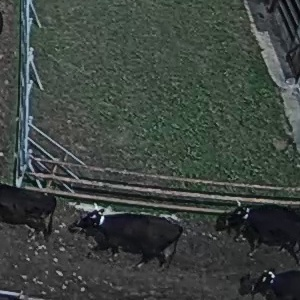cow: (70, 206, 193, 270), (210, 189, 300, 246), (3, 176, 65, 253), (228, 261, 300, 299)
